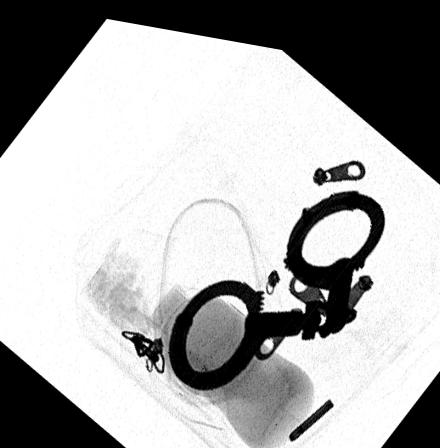HandCuffs: (166, 175, 386, 386)
